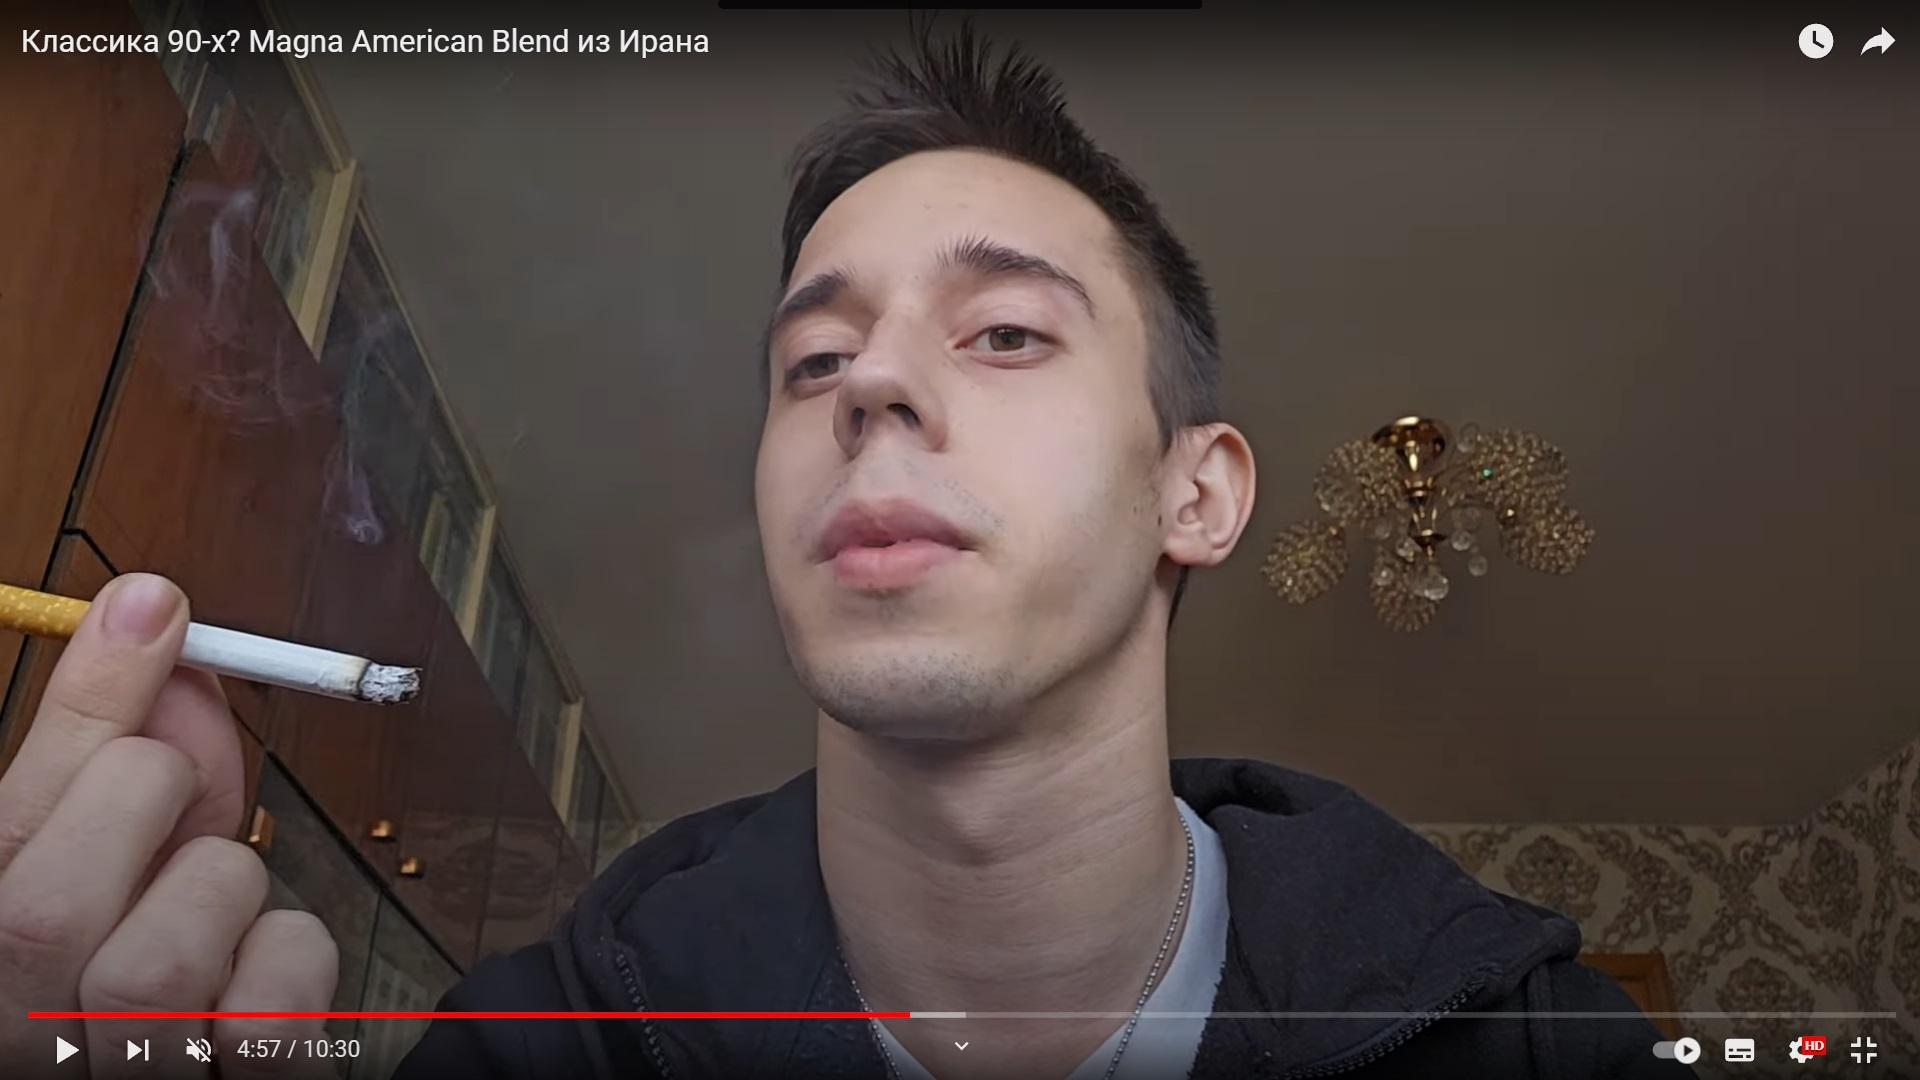cigarette: (0, 580, 421, 704)
